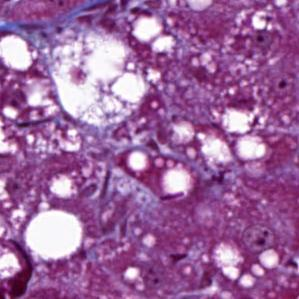ballooning: (42, 24, 154, 130)
